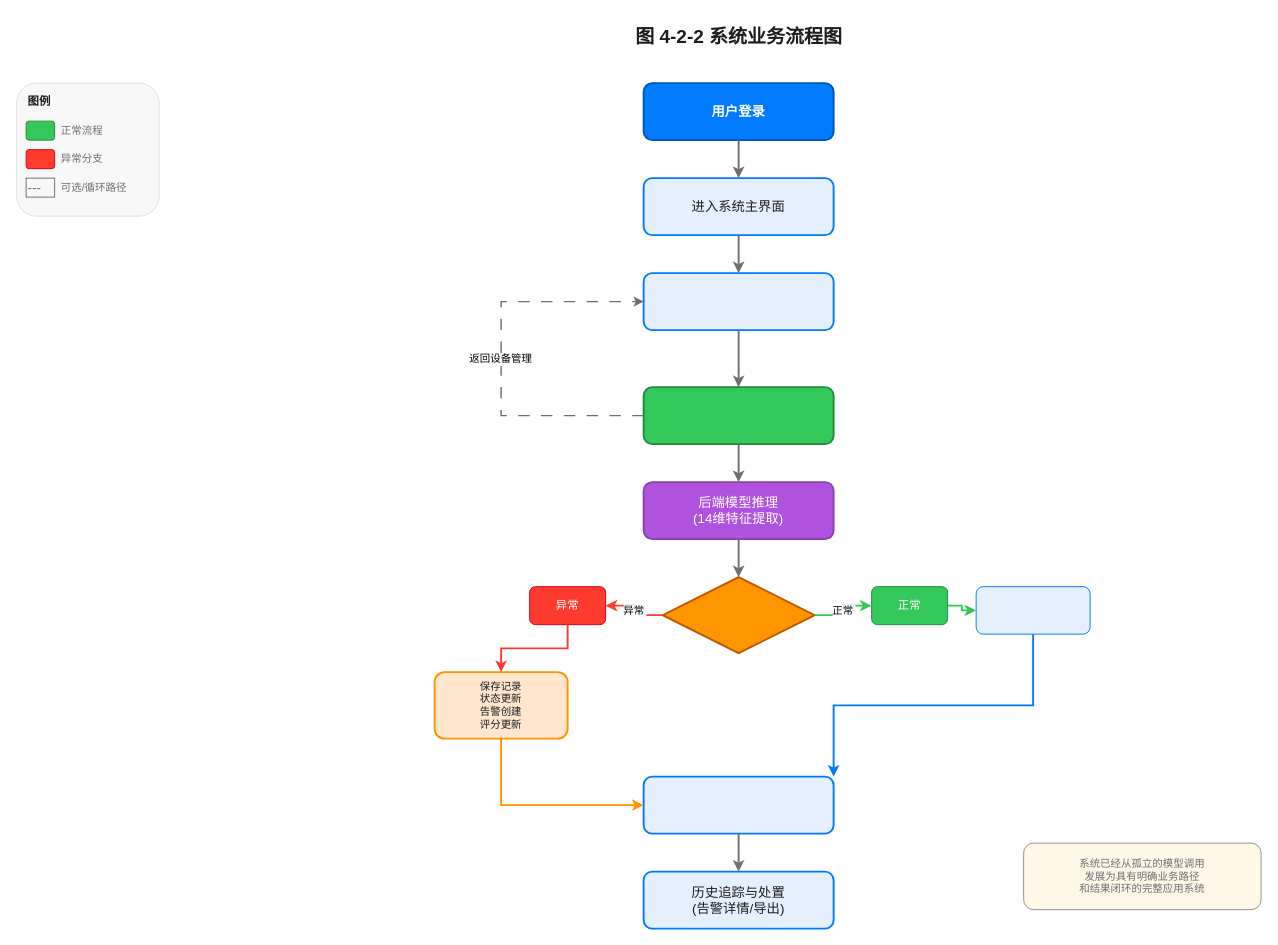
Image size: 1278x945. Some labels were removed from this diagram. Here are the shapes that lost their labels. From the top down, the centre of each, then its label:
(x=738, y=301): 设备管理
(x=738, y=415): 发起检测请求 (单条/持续)
(x=738, y=615): 异常检测结果
(x=1032, y=610): 保存检测记录
(x=738, y=804): 结果展示 (历史记录/监控面板)
